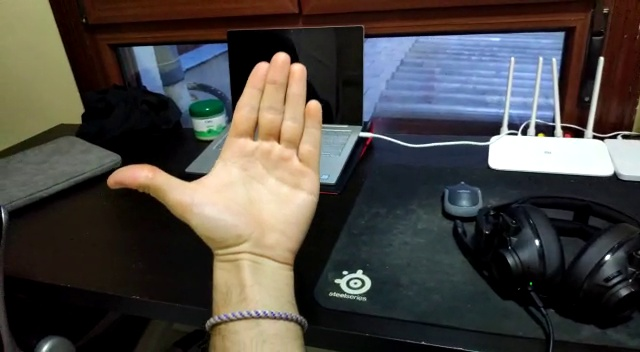Palm: (103, 45, 325, 275)
